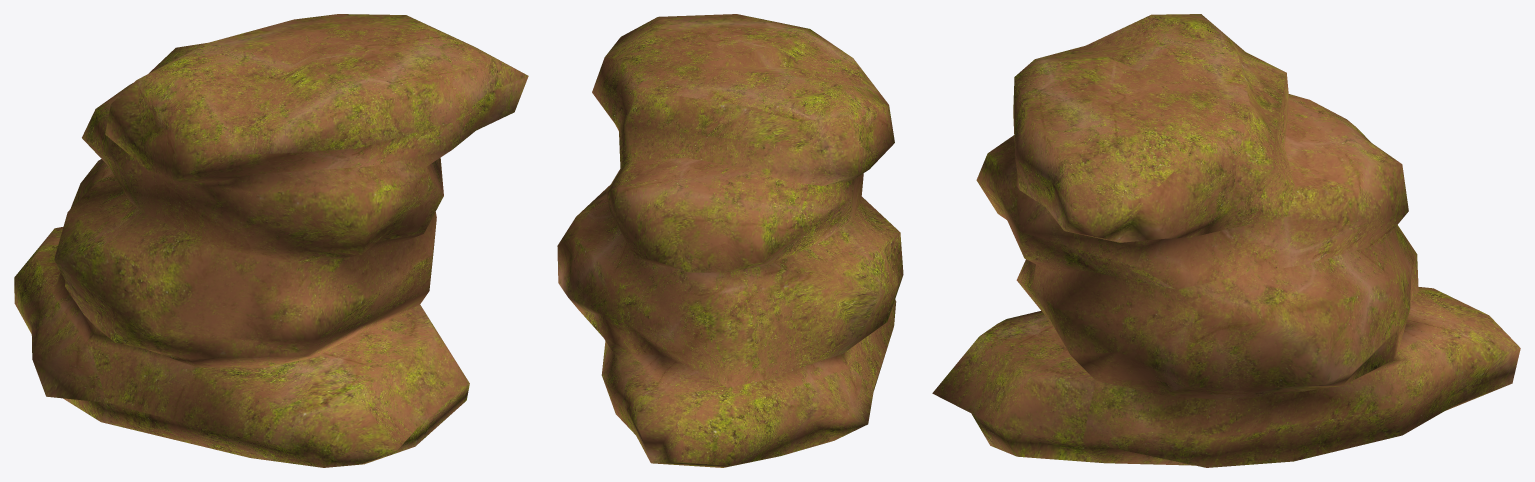
File: ROK0110014.fbx
3 renders of one model, left to right at view 1: azimuth 30°, elevation 25°; view 2: azimuth 150°, elevation 25°; view 3: azimuth 270°, elevation 25°, orthographic. The views are drawn at different scales.
Visible parts, largest first — view 1: smROK0110014; view 2: smROK0110014; view 3: smROK0110014.
Part boxes in pixels (x1,y1,x2,y2): smROK0110014: (14,14,528,467); smROK0110014: (557,14,903,467); smROK0110014: (932,14,1520,467).
Bounding box in the file's own units: 142 × 128 × 180.
1 material, 1 textured.
